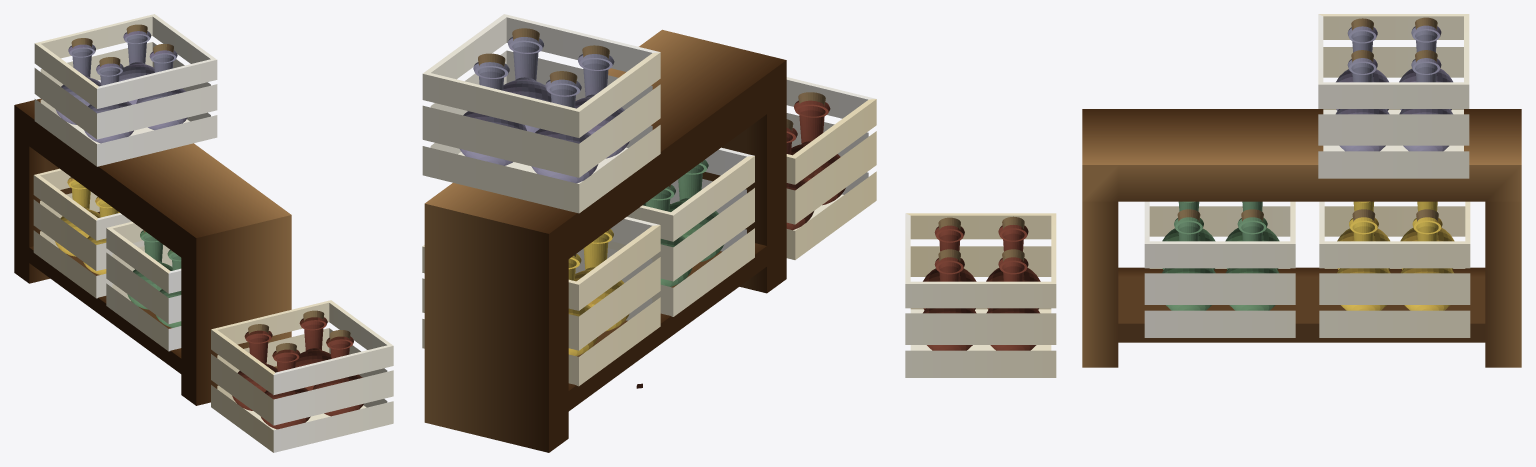
File: rak_stok.glb
The picture shows the model from 3 angles, left to right: view 1: azimuth 30°, elevation 25°; view 2: azimuth 150°, elevation 25°; view 3: azimuth 270°, elevation 25°; orthographic projection. The views are drawn at different scales.
Parts seen in each view (by area): view 1: Plane024; view 2: Plane024; view 3: Plane024.
Boxes of the visible parts, x1,y1,x2,y2 form: Plane024: (14, 14, 393, 452); Plane024: (422, 14, 876, 452); Plane024: (905, 14, 1521, 377).
Bounding box in the file's own units: 0.3666 × 0.9202 × 1.29.
1 material, 1 textured.
